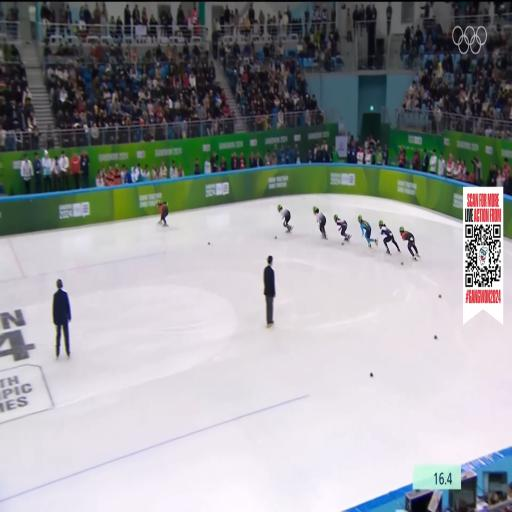Skater: (379, 220, 400, 254), (400, 227, 420, 260), (358, 215, 377, 247), (156, 199, 172, 229), (334, 215, 351, 241), (313, 207, 326, 239), (278, 205, 293, 232)
